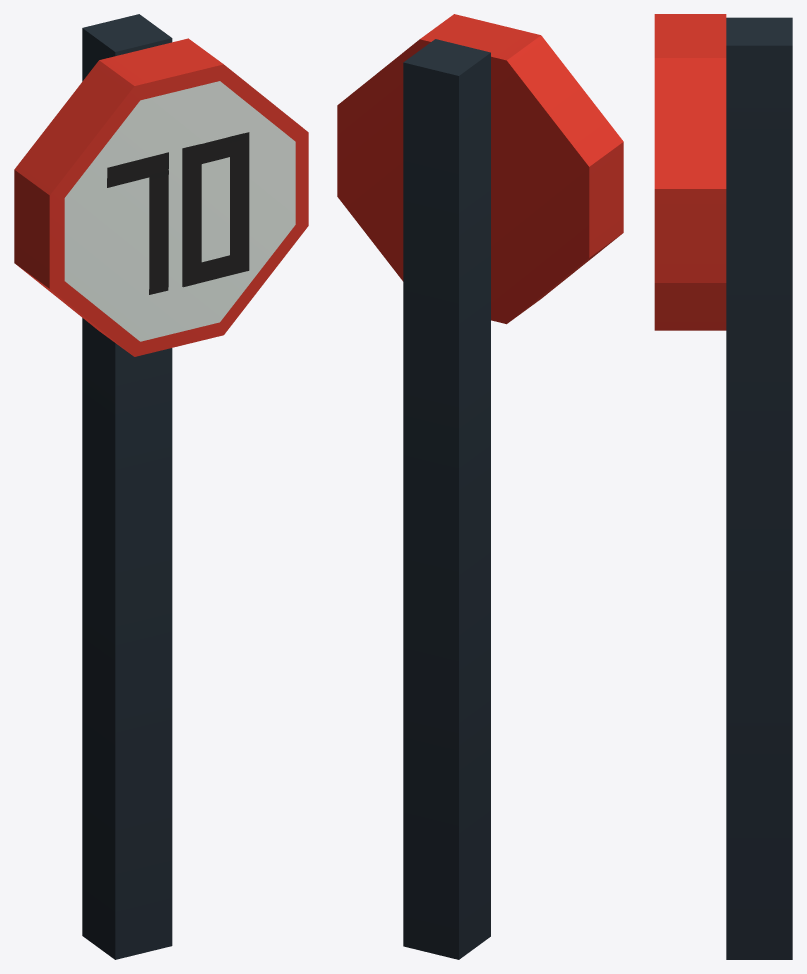
File: Road_sign_max_Speed_70.fbx
The picture shows the model from 3 angles, left to right: view 1: azimuth 30°, elevation 25°; view 2: azimuth 150°, elevation 25°; view 3: azimuth 270°, elevation 25°; orthographic projection. The views are drawn at different scales.
Parts seen in each view (by area): view 1: Road_sign_max_Speed_70; view 2: Road_sign_max_Speed_70; view 3: Road_sign_max_Speed_70.
Boxes of the visible parts, x1,y1,x2,y2 form: Road_sign_max_Speed_70: [14, 14, 308, 959]; Road_sign_max_Speed_70: [337, 14, 623, 959]; Road_sign_max_Speed_70: [654, 14, 792, 959].
Bounding box in the file's own units: 107 × 359 × 49.94.
